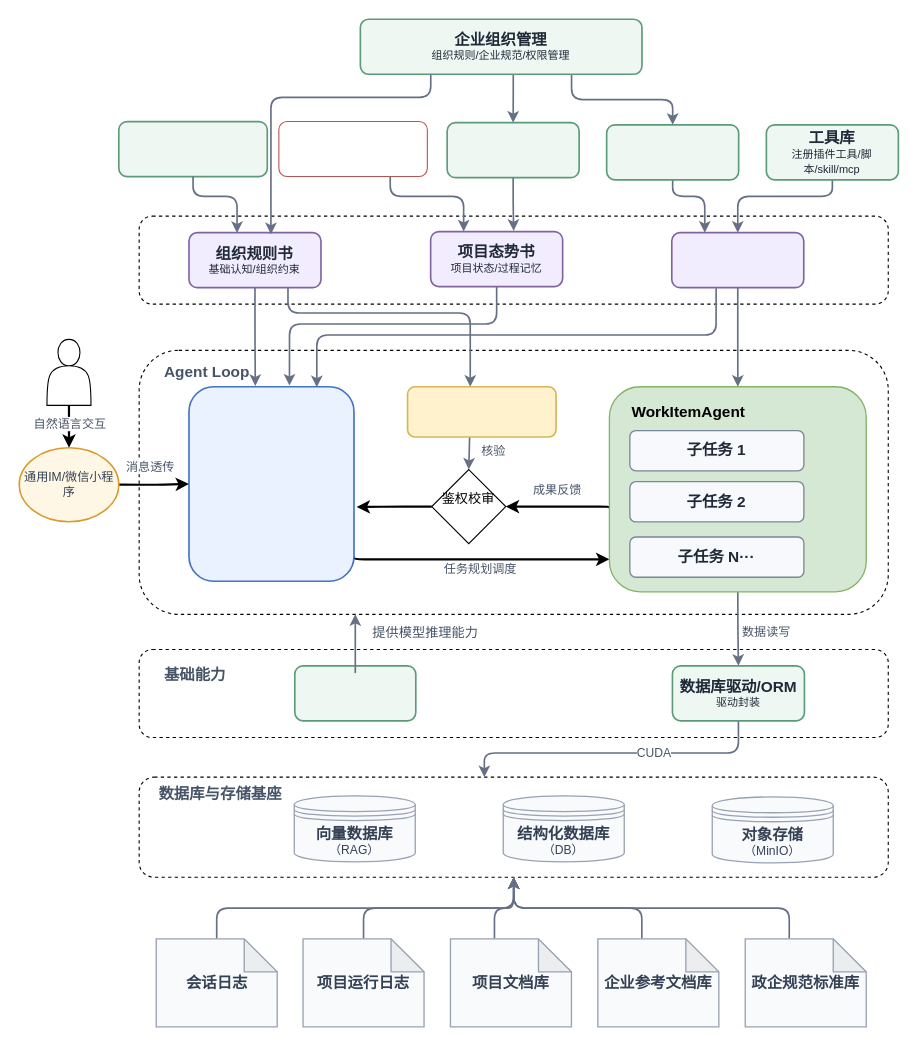
Image size: 919x1047. Some labels were removed from this diagram. The centre of each missing label's shape, as x and y in pixels:
"GuardianAgent 二次核验/权限核验" belongs at point (481, 411).
"LLM 大语言模型API" belongs at point (354, 693).
"SessionAgent 任务规划/会话组织" belongs at point (271, 483).
"Skill化 业务流程 （sop） 业务流程/执行约束" belongs at point (672, 152).
"用户" belongs at point (68, 371).
"系统提示词 任务边界/职责说明/角色认知" belongs at point (192, 148).
"系统能力书 任务边界/能力边界/工具" belongs at point (737, 259).
"项目事件日志库 事件记录/运行日志" belongs at point (352, 148).
"项目全景节点 节点状态/流转规则/验收标准" belongs at point (512, 149).
